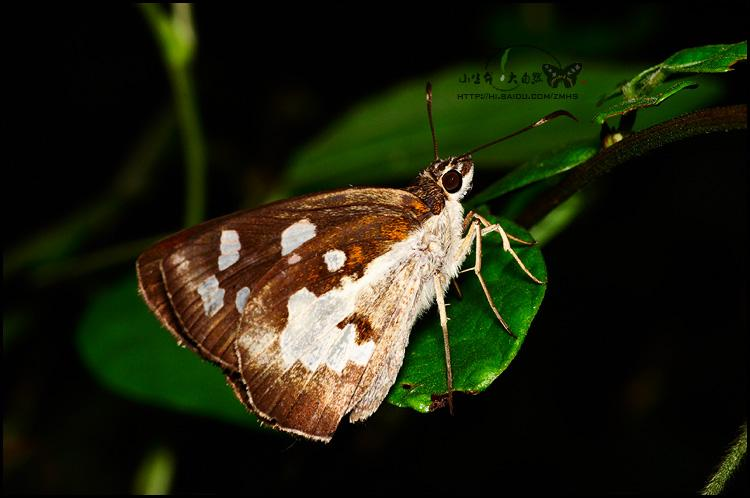Hesperiidae: (130, 79, 577, 450)
